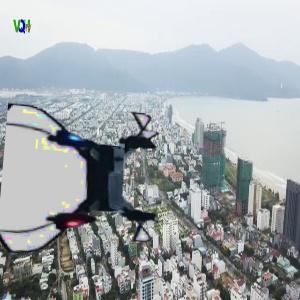drone: (3, 98, 168, 263)
